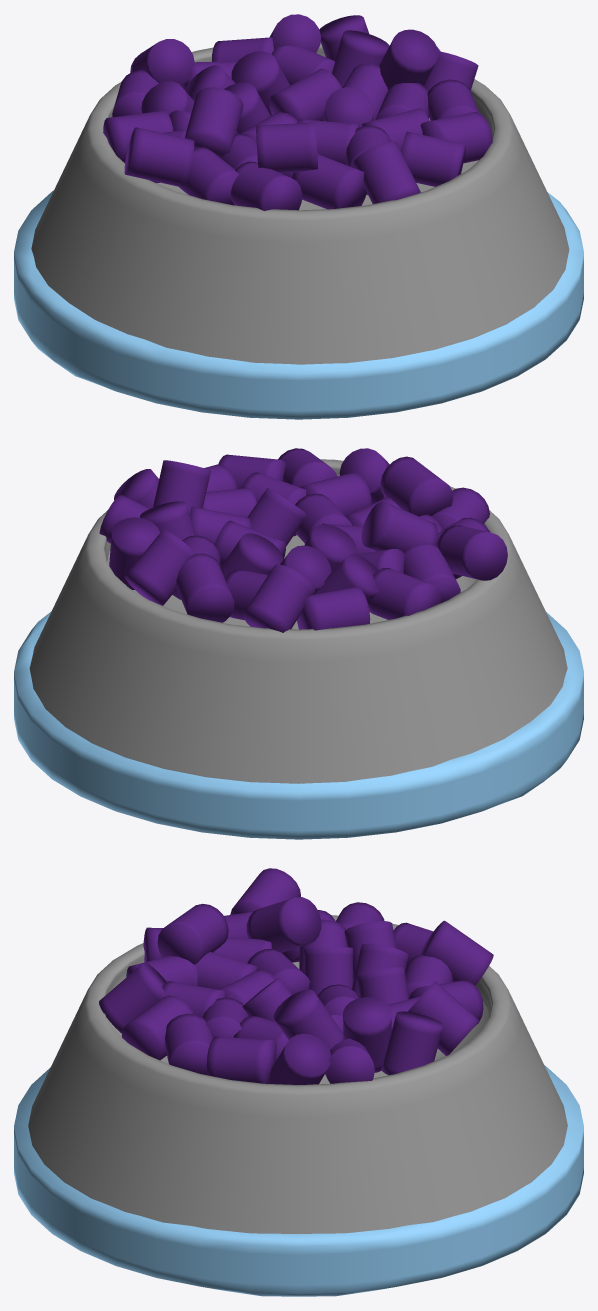
Rendered from feed.FBX.
3 views of the same model, one above another, from view 1: azimuth 30°, elevation 25°; view 2: azimuth 150°, elevation 25°; view 3: azimuth 270°, elevation 25° (orthographic).
Visible parts, largest first — view 1: Cylinder001; view 2: Cylinder001; view 3: Cylinder001.
Boxes of the visible parts, left/top/right/bottom form: Cylinder001: left=14, top=14, right=583, bottom=419; Cylinder001: left=14, top=448, right=583, bottom=839; Cylinder001: left=14, top=868, right=583, bottom=1296.
Size of the model in its own units: 159 by 74.25 by 159.
